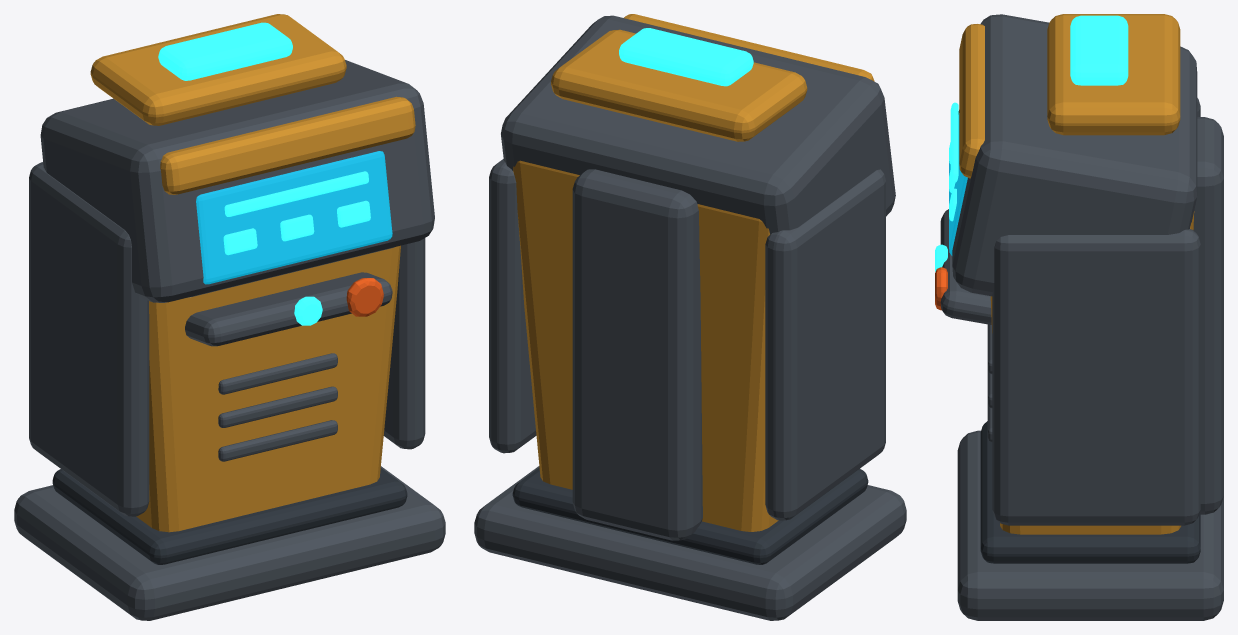
The model's file is SM_MiningTerminal.fbx.
The picture shows the model from 3 angles, left to right: view 1: azimuth 30°, elevation 25°; view 2: azimuth 150°, elevation 25°; view 3: azimuth 270°, elevation 25°; orthographic projection.
Parts seen in each view (by area): view 1: SM_MiningTerminal.001; view 2: SM_MiningTerminal.001; view 3: SM_MiningTerminal.001.
Boxes of the visible parts, x1,y1,x2,y2 form: SM_MiningTerminal.001: (14, 14, 445, 620); SM_MiningTerminal.001: (474, 14, 906, 620); SM_MiningTerminal.001: (935, 14, 1223, 620).
Size of the model in its own units: 99.75 by 128 by 194.
